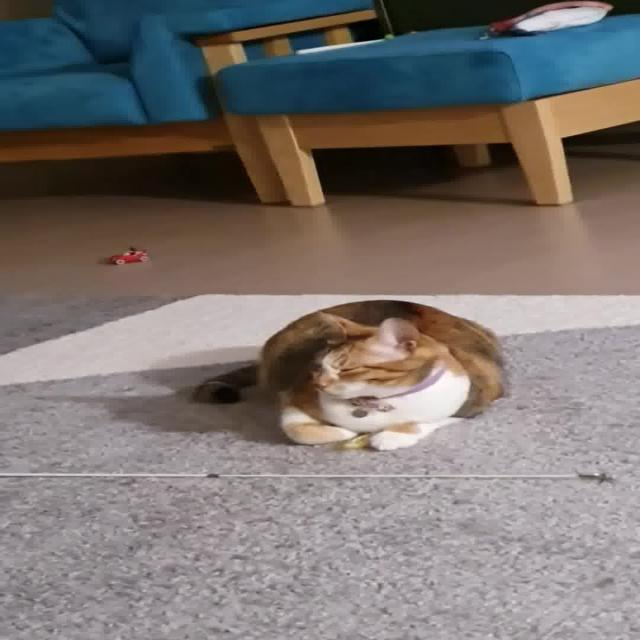cat: (184, 290, 542, 456)
